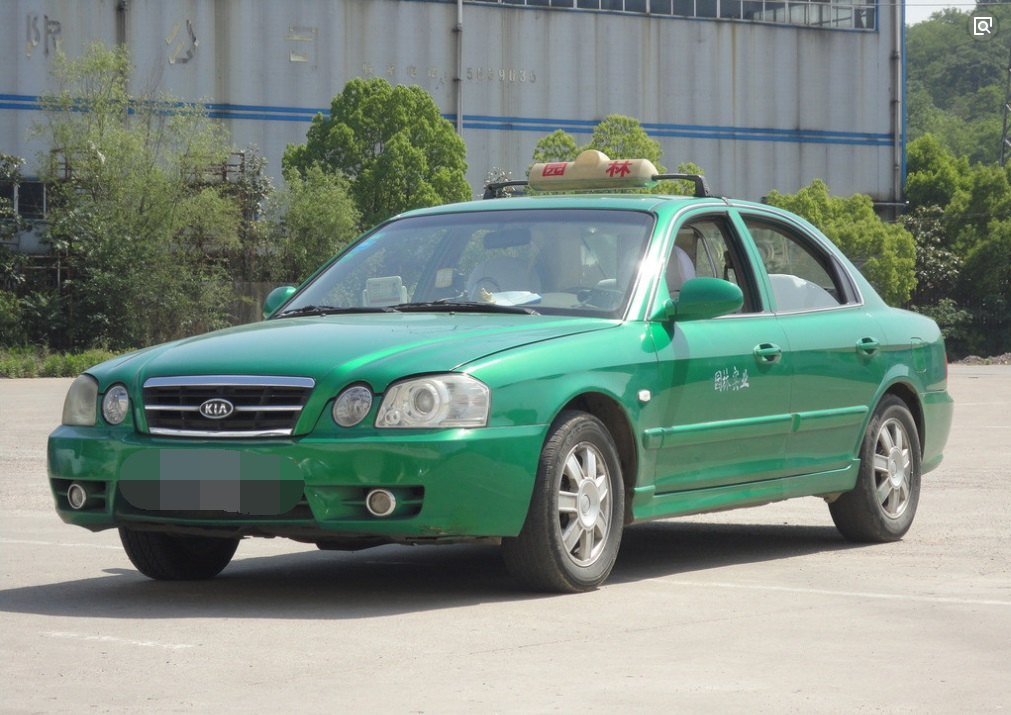taxi: (46, 150, 952, 596)
